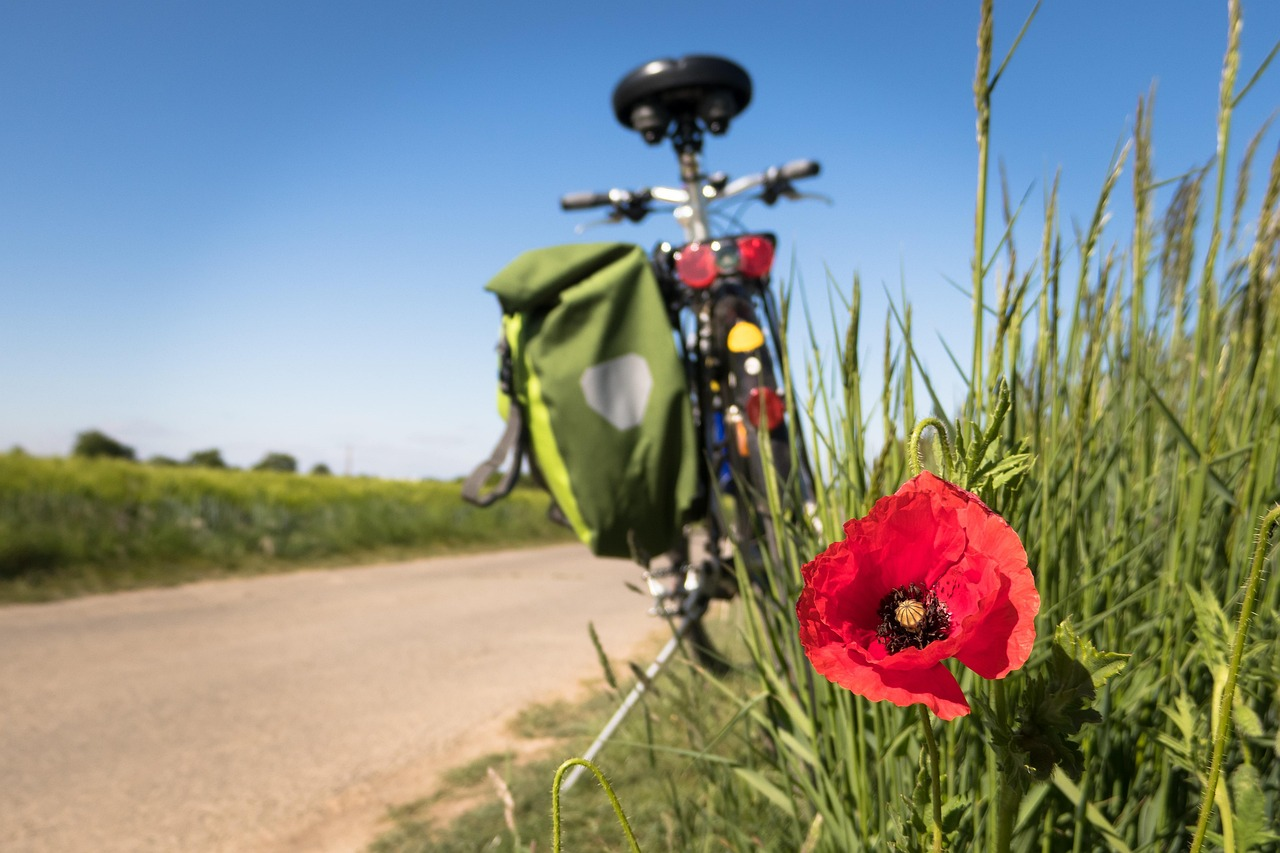Cycle: (410, 39, 904, 802)
